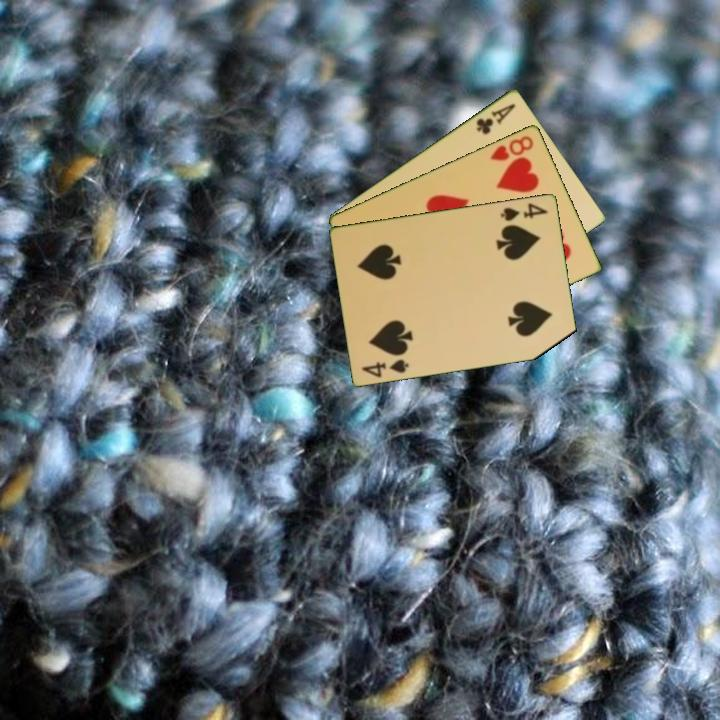4s: (497, 199, 551, 224), (359, 355, 412, 380)
8h: (486, 132, 536, 164)
Ac: (473, 100, 519, 137)
